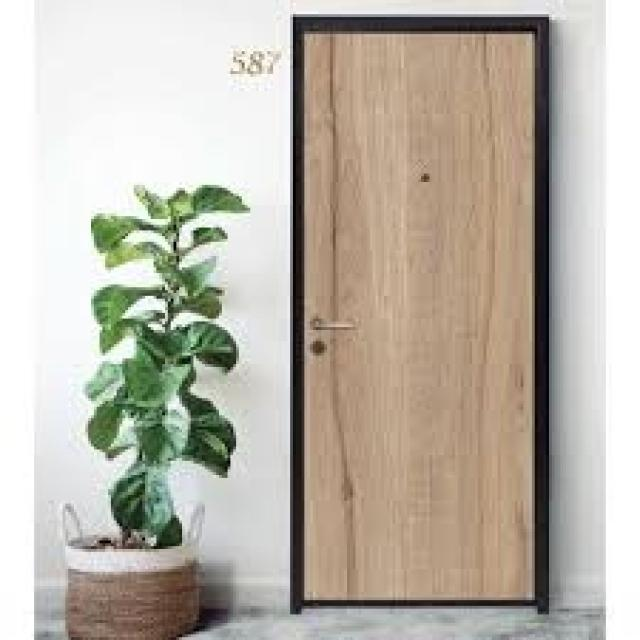door: (293, 14, 549, 612)
